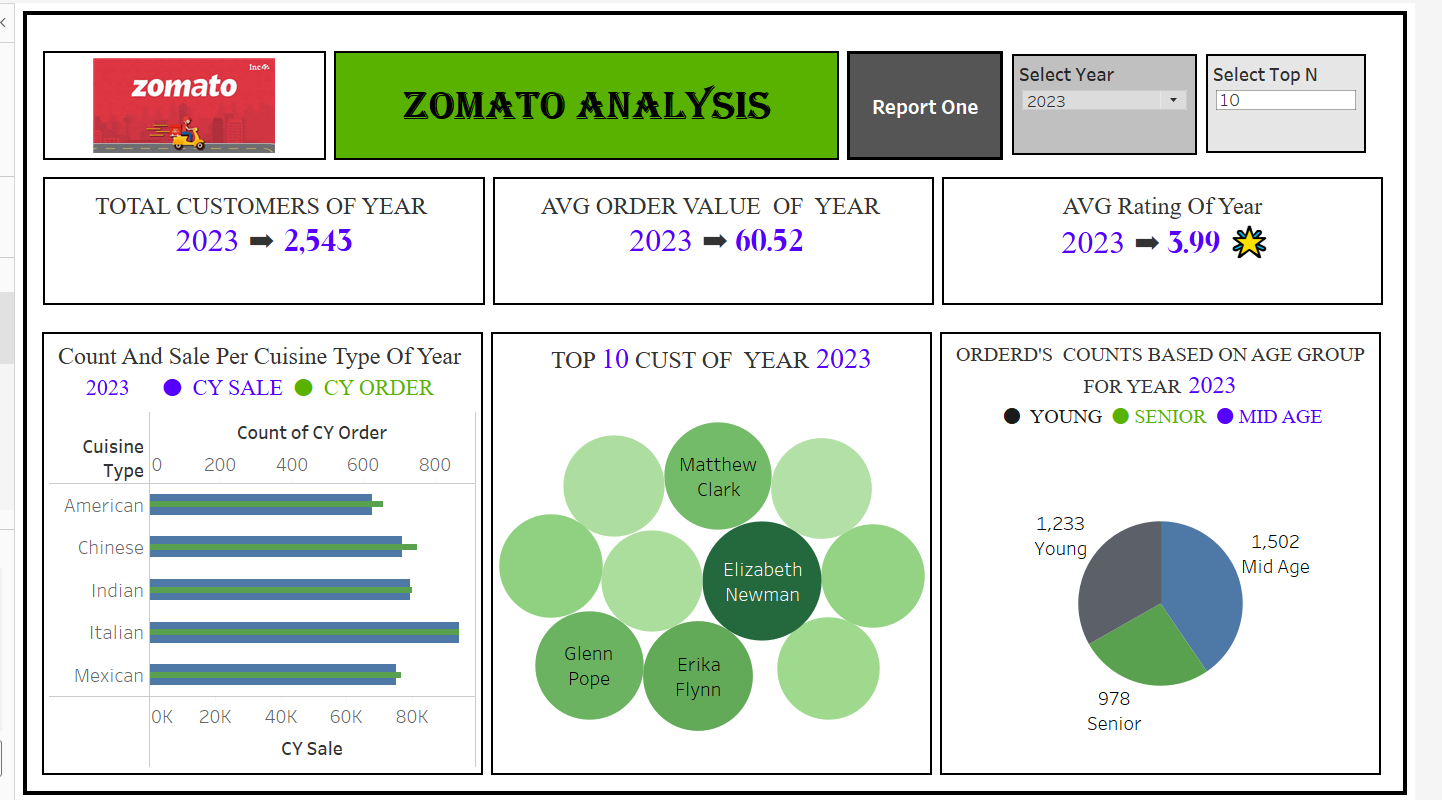

What the dashboard file says about the page in this screenshot:
{"tool":"tableau","page":{"name":"Zomato 2","canvas":[1400,800],"ordinal":1},"visuals":[{"type":"image","param":"Image/Zomato Logo 2.jpeg","box":[24,44,291,117]},{"type":"text","box":[315,44,513,117]},{"type":"dashboard-object","box":[828,44,164,117]},{"type":"parameter","param":"[Parameters].[Parameter 1]","box":[997,51,185,101]},{"type":"parameter","param":"[Parameters].[Parameter 2]","box":[1191,51,160,99]},{"type":"worksheet","title":"CustKPI","mark":"Automatic","box":[24,170,450,136]},{"type":"worksheet","title":"Avg Ord KPI","mark":"Automatic","box":[474,170,449,136]},{"type":"worksheet","title":"AVG Ratings KPI","mark":"Automatic","box":[923,170,449,136]},{"type":"worksheet","title":"bar in bar","mark":"Bar","rows":["Cuisine_Type"],"cols":["Calculation_757449165349875713","Calculation_757449165352767491"],"box":[23,325,449,451]},{"type":"worksheet","title":"Top N Cust","mark":"Circle","box":[472,325,449,451]},{"type":"worksheet","title":"Age Grp","mark":"Pie","box":[921,325,449,451]}]}

Visuals, with their boxes in screenshot pixels (x1, y1, x2, y2):
image: rect(21, 45, 318, 165)
text: rect(318, 45, 843, 165)
dashboard-object: rect(843, 45, 1010, 165)
parameter: rect(1015, 52, 1205, 155)
parameter: rect(1214, 52, 1377, 153)
"CustKPI" worksheet: rect(21, 174, 481, 313)
"Avg Ord KPI" worksheet: rect(481, 174, 940, 313)
"AVG Ratings KPI" worksheet: rect(940, 174, 1399, 313)
"bar in bar" worksheet (Bar marks): rect(20, 332, 479, 793)
"Top N Cust" worksheet (Circle marks): rect(479, 332, 938, 793)
"Age Grp" worksheet (Pie marks): rect(938, 332, 1397, 793)
